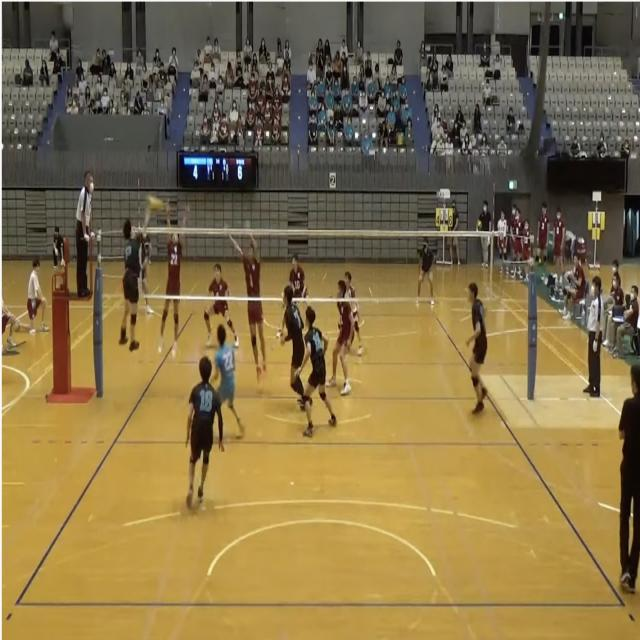spike: (116, 194, 160, 356)
